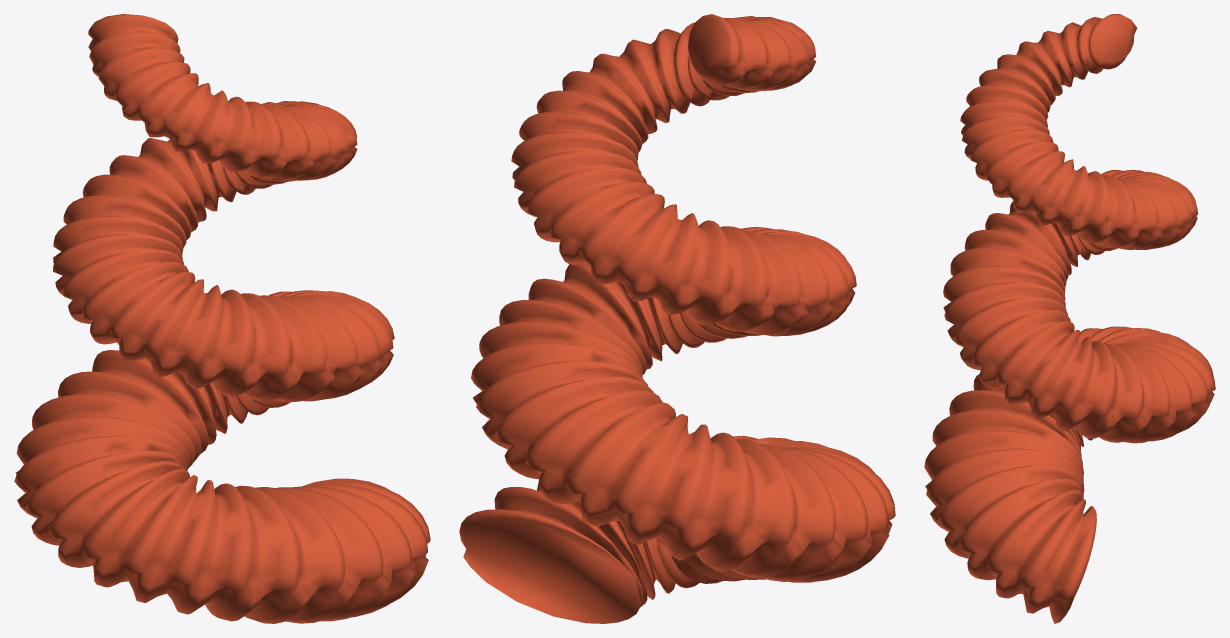
The model's file is coral-pleated-tower.glb.
3 views of the same model, side by side, from view 1: azimuth 30°, elevation 25°; view 2: azimuth 150°, elevation 25°; view 3: azimuth 270°, elevation 25° (orthographic). The views are drawn at different scales.
Parts seen in each view (by area): view 1: coral-pleated-tower; view 2: coral-pleated-tower; view 3: coral-pleated-tower.
Boxes of the visible parts, x1=… form: coral-pleated-tower: x1=14, y1=14, x2=430, y2=623; coral-pleated-tower: x1=459, y1=14, x2=895, y2=623; coral-pleated-tower: x1=924, y1=14, x2=1215, y2=623.
Size of the model in its own units: 1.29 by 2 by 1.01.
